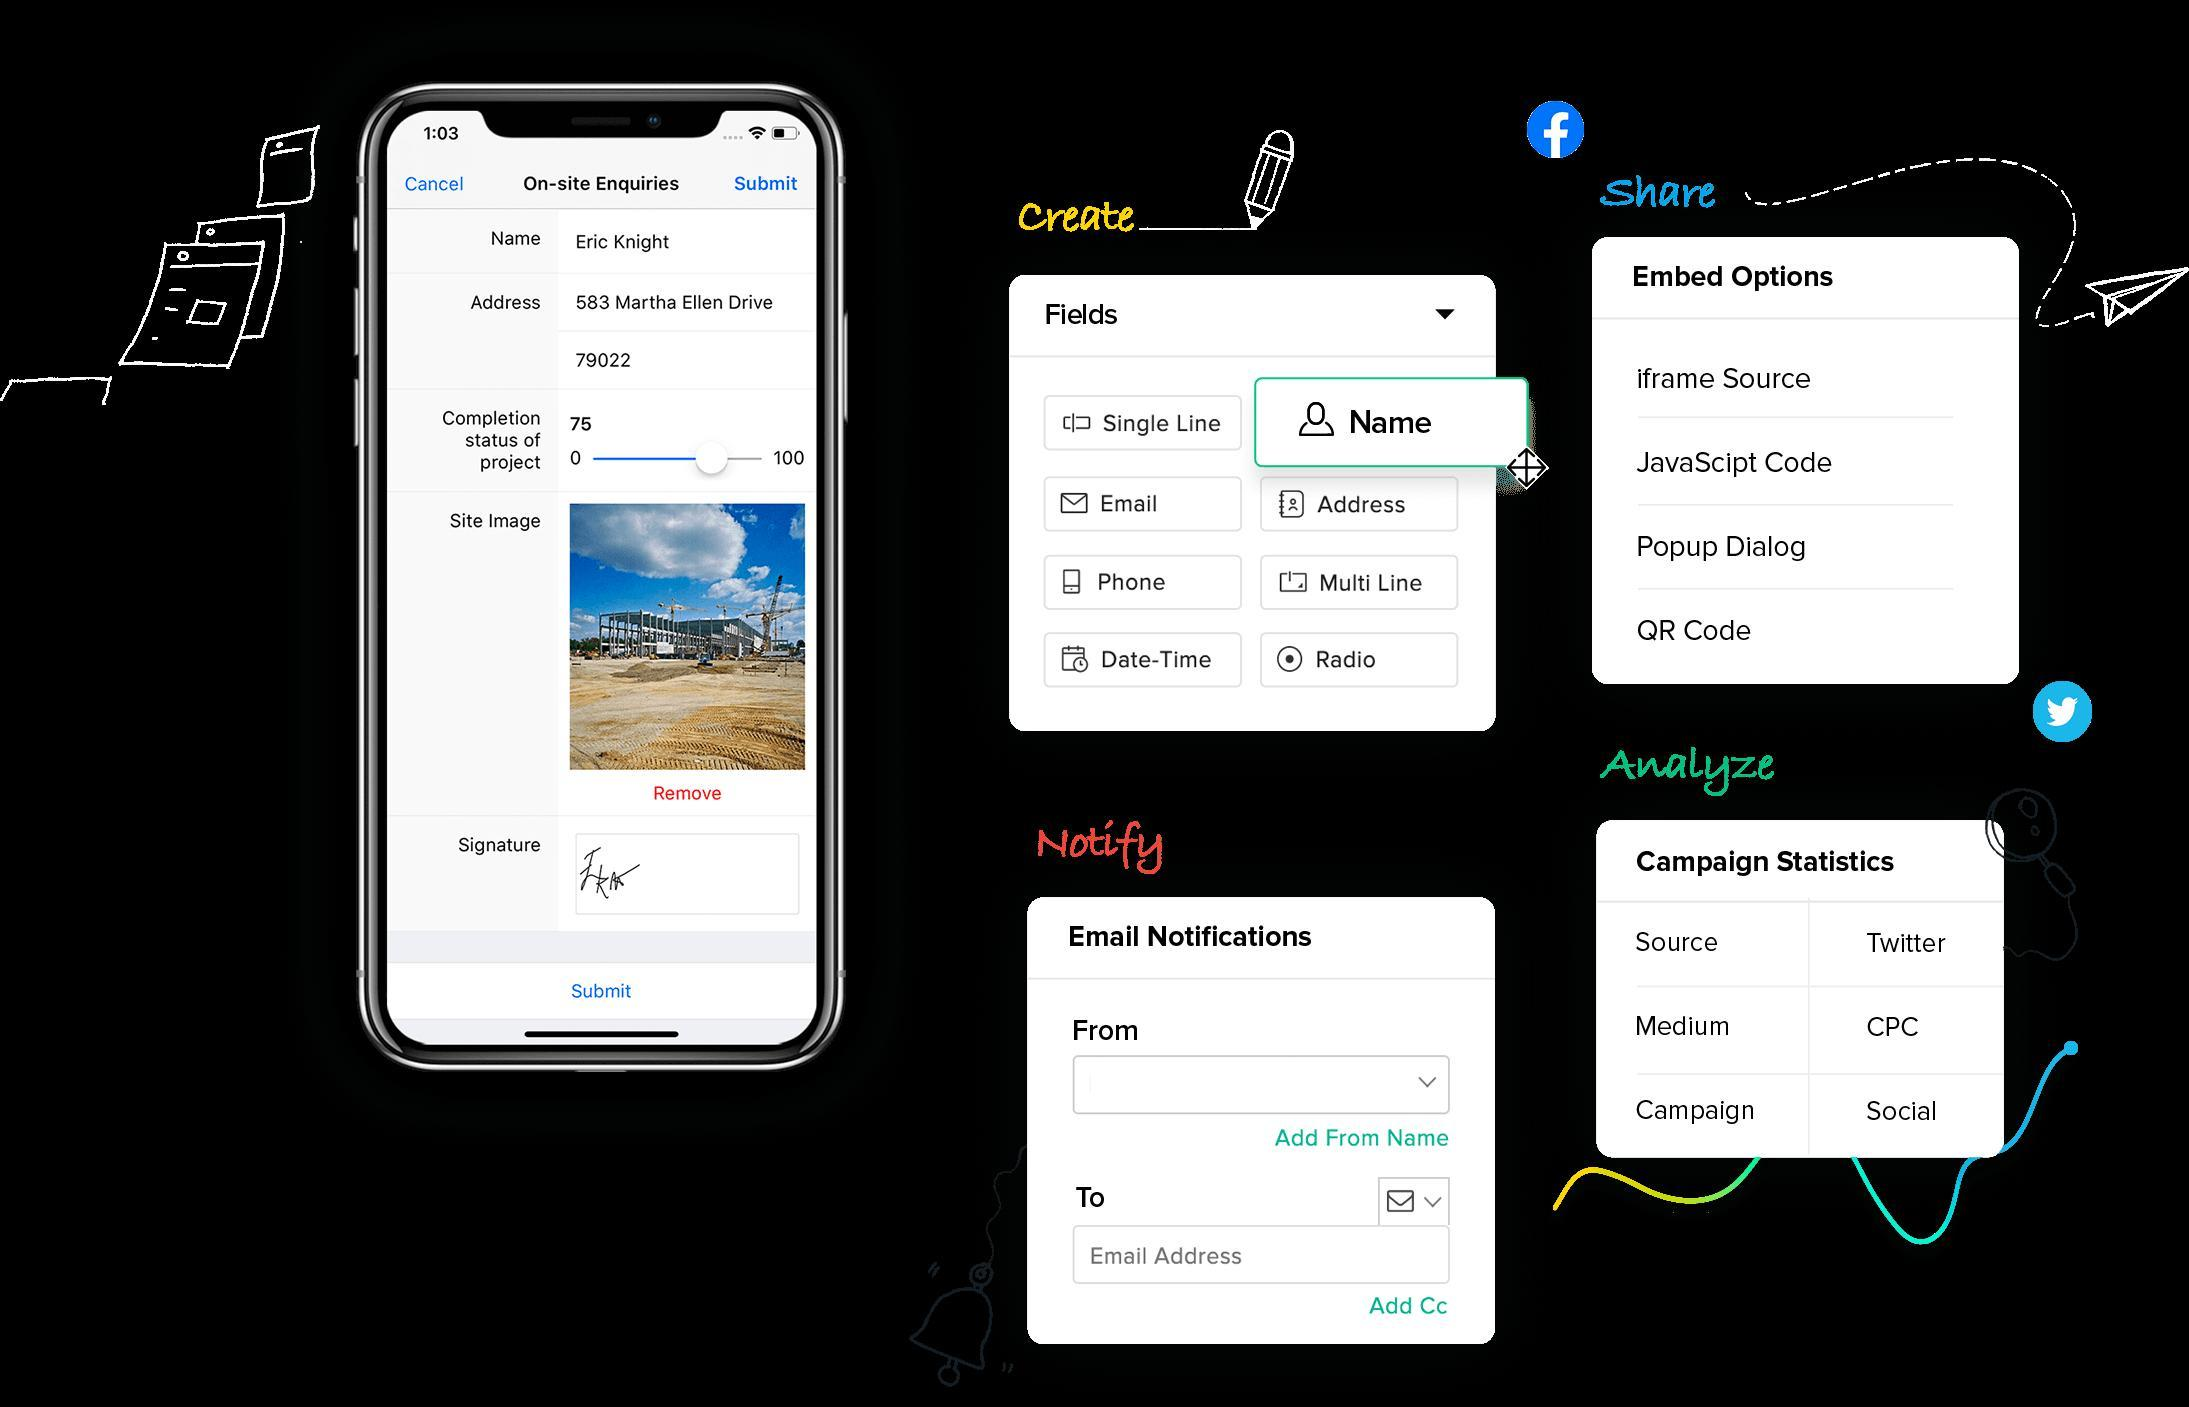button: (1256, 629, 1465, 692), (1039, 552, 1246, 616), (1257, 474, 1461, 538), (1043, 389, 1244, 453), (1257, 554, 1461, 616), (1043, 630, 1244, 692), (1039, 474, 1244, 534)
dropdown: (1069, 1051, 1453, 1118)
icon: (1385, 1188, 1420, 1217)
input: (1067, 1224, 1455, 1287)
label: (1061, 1007, 1149, 1051), (1064, 1176, 1115, 1220)
slider: (570, 439, 814, 477)
